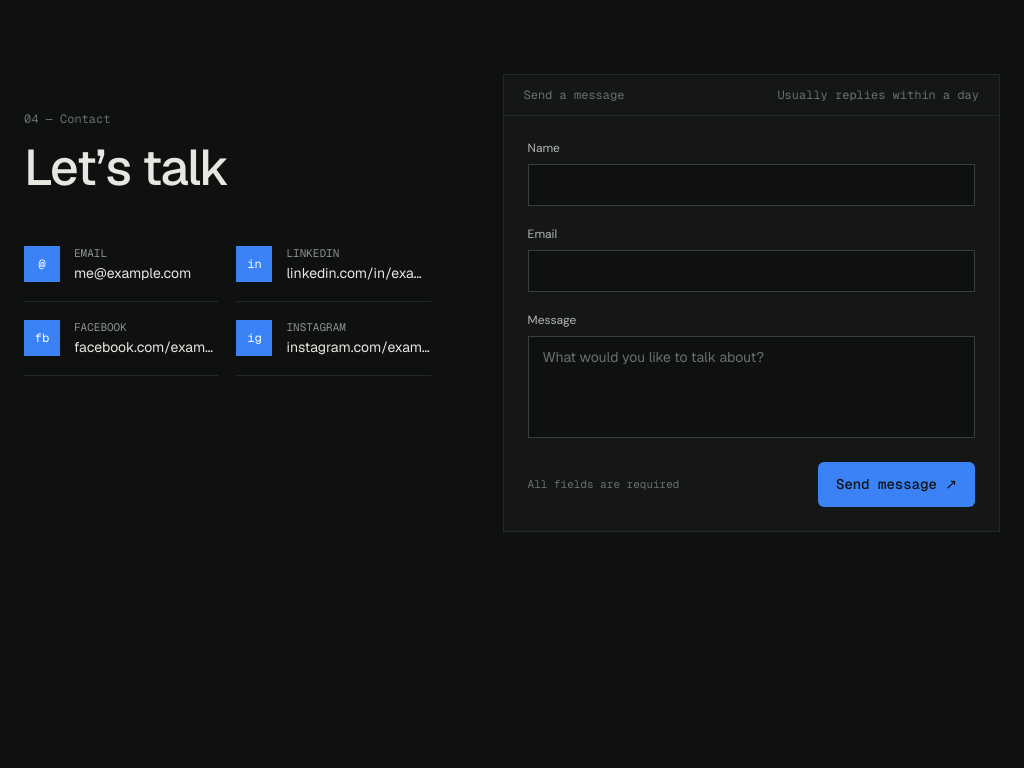
Contact › shows an error modal when the send fails
Type "Jane Doe" into the field labelled "Name". click: x=751, y=185
box: [528,164,975,206]
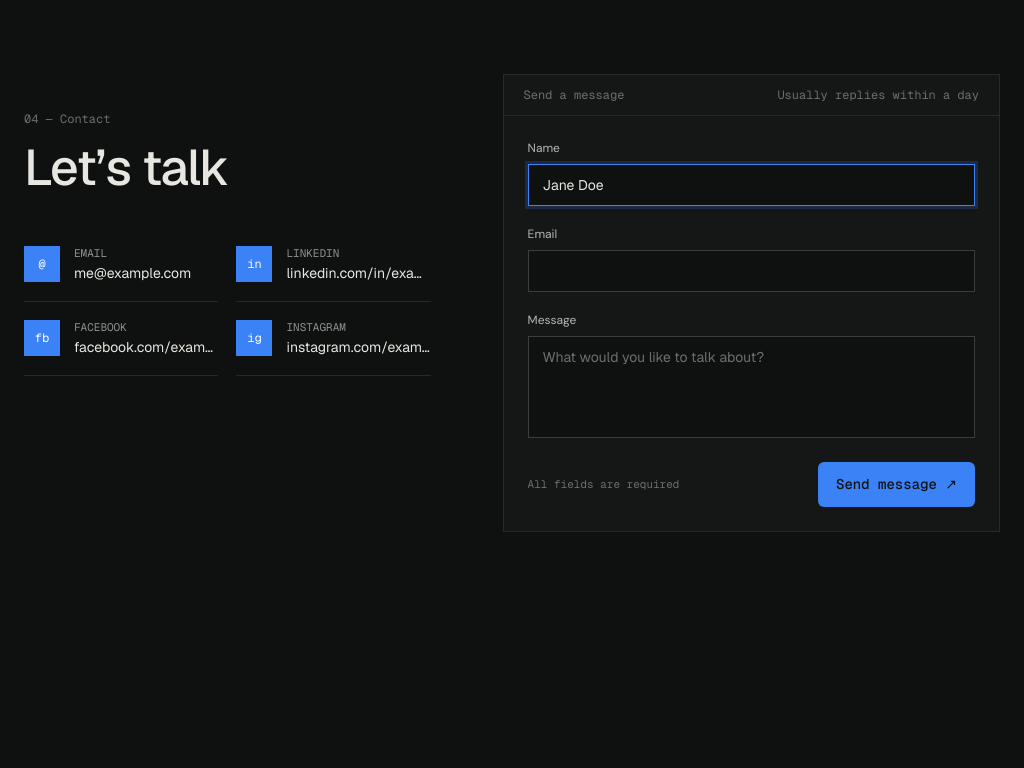
Type "jane@example.com" into the field labelled "Email". click: x=751, y=271
box: [528,250,975,292]
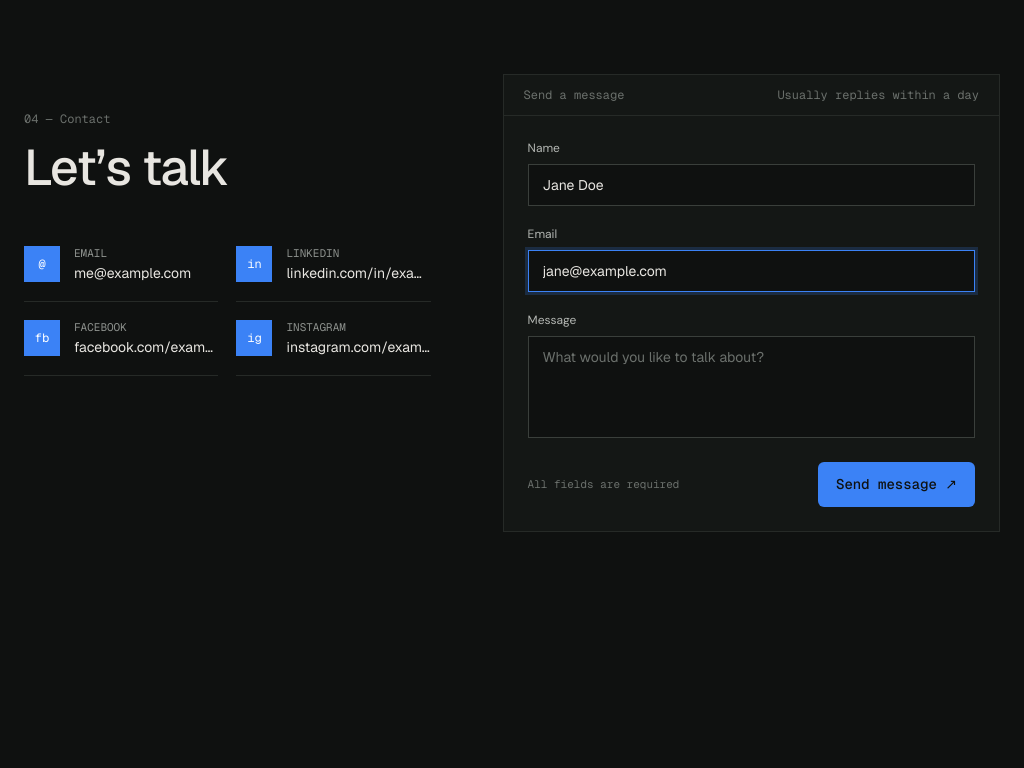
Type "Hello there" into the text box labelled "Message". click: x=751, y=387
box: [528,336,975,438]
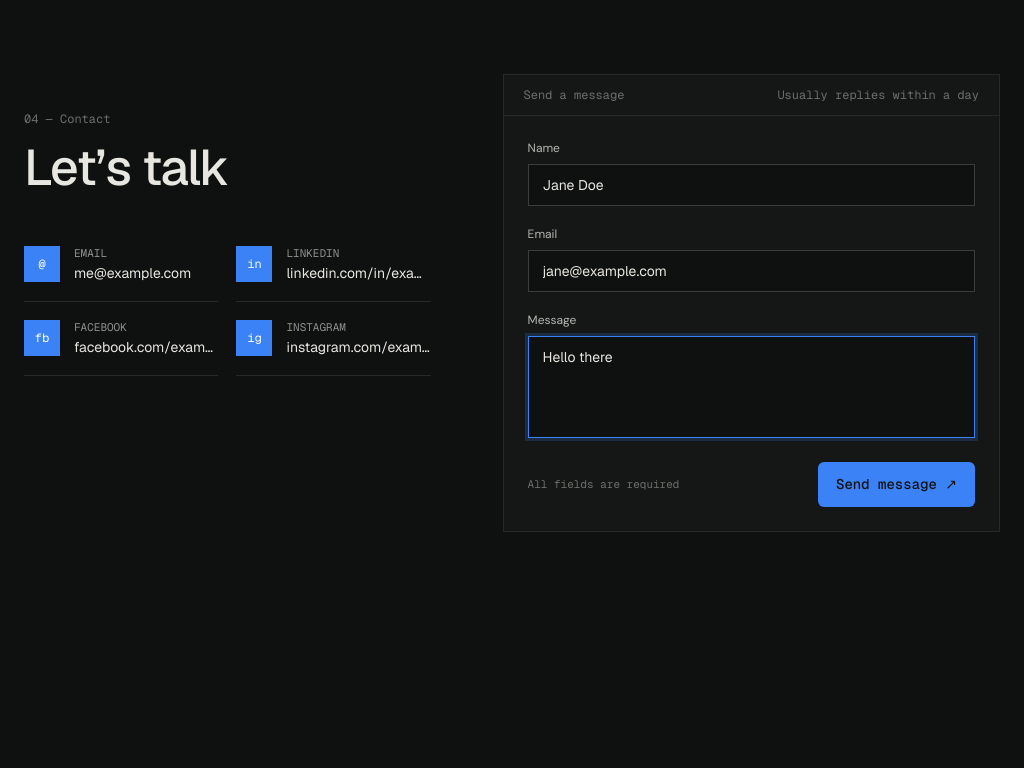
Click the button "Send message ↗". click: x=897, y=484
box: [818,462,975,507]
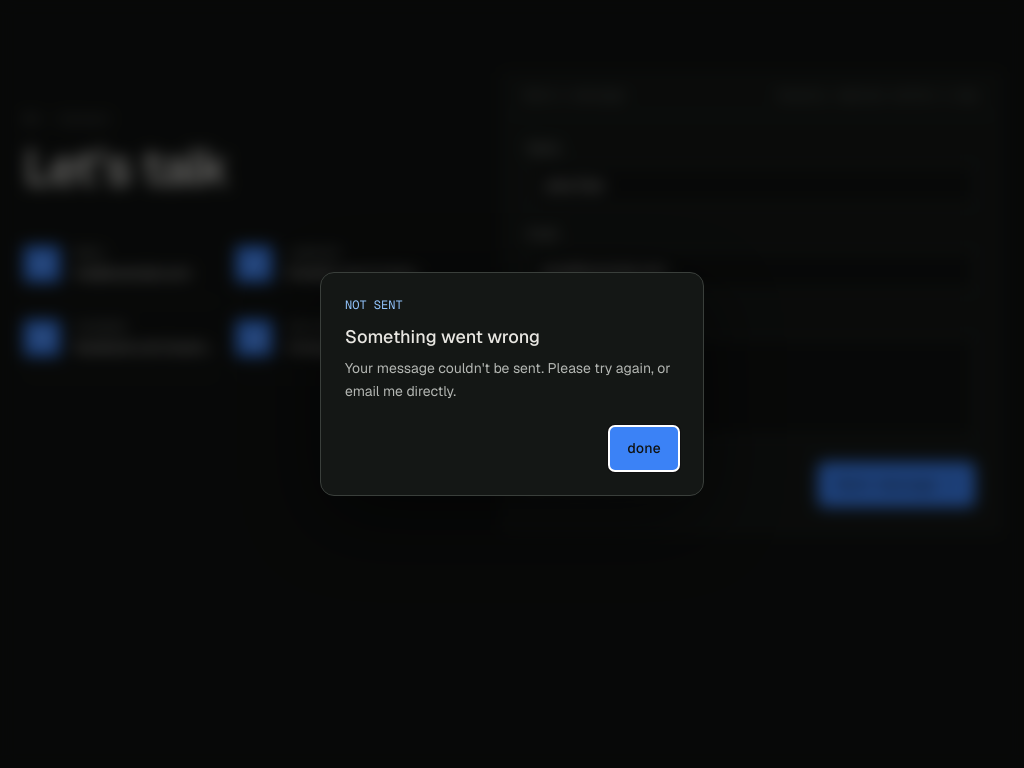
Expected: the heading "Something went wrong" is shown, [345,325,540,348]
